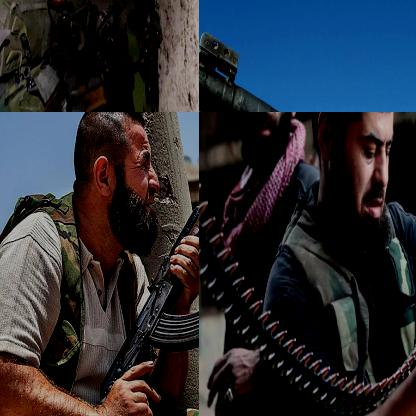rifle: (99, 112, 198, 415), (199, 30, 415, 111)
